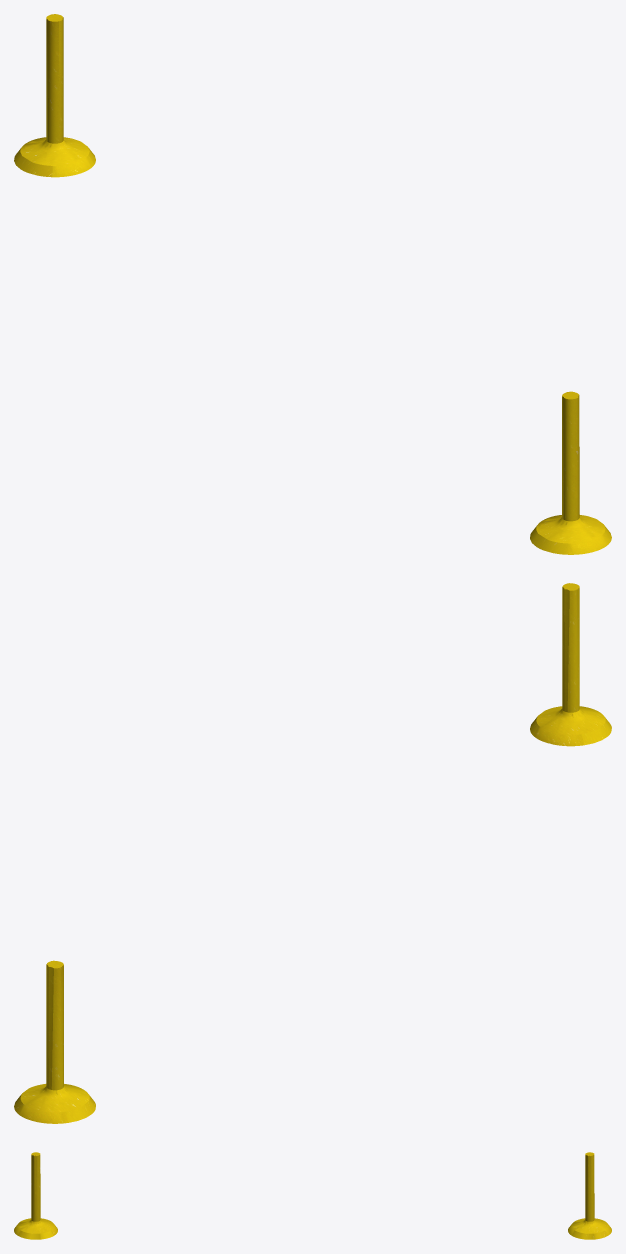
Rendered from valve2.obj.
3 renders of one model, top to bottom at view 1: azimuth 30°, elevation 25°; view 2: azimuth 150°, elevation 25°; view 3: azimuth 270°, elevation 25°, orthographic. The views are drawn at different scales.
Visible parts, largest first — view 1: ValveSet2_Gear.001; view 2: ValveSet2_Gear.001; view 3: ValveSet2_Gear.001.
Part boxes in pixels (bbox=[...]): ValveSet2_Gear.001: bbox=[14, 14, 611, 554]; ValveSet2_Gear.001: bbox=[14, 583, 611, 1123]; ValveSet2_Gear.001: bbox=[14, 1152, 611, 1239].
Bounding box in the file's own units: 1.14 × 2.23 × 15.73.
2 materials, 2 textured.
